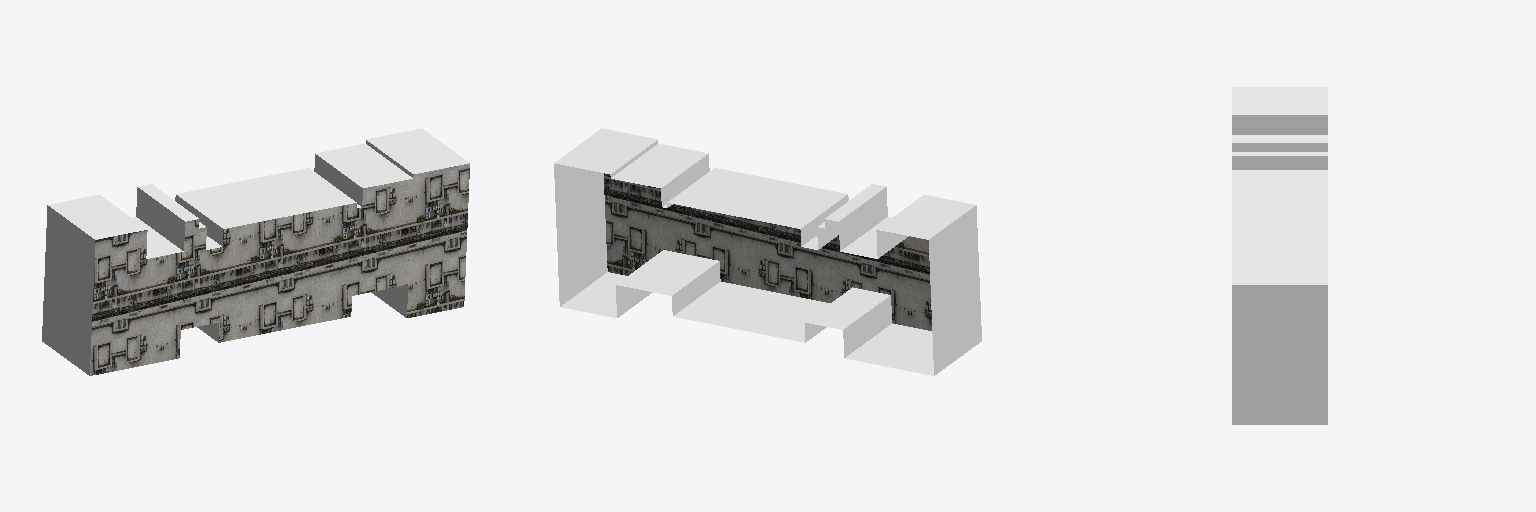
The picture shows the model from 3 angles: view 1: azimuth 30°, elevation 25°; view 2: azimuth 150°, elevation 25°; view 3: azimuth 270°, elevation 25°; orthographic projection.
Parts seen in each view (by area): view 1: Building; view 2: Building; view 3: Building.
Part boxes in pixels (left/top/right/bottom): Building: left=42, top=128, right=469, bottom=375; Building: left=554, top=128, right=981, bottom=375; Building: left=1232, top=87, right=1327, bottom=424.
Size of the model in its own units: 68.73 by 27.14 by 15.
2 materials, 1 textured.